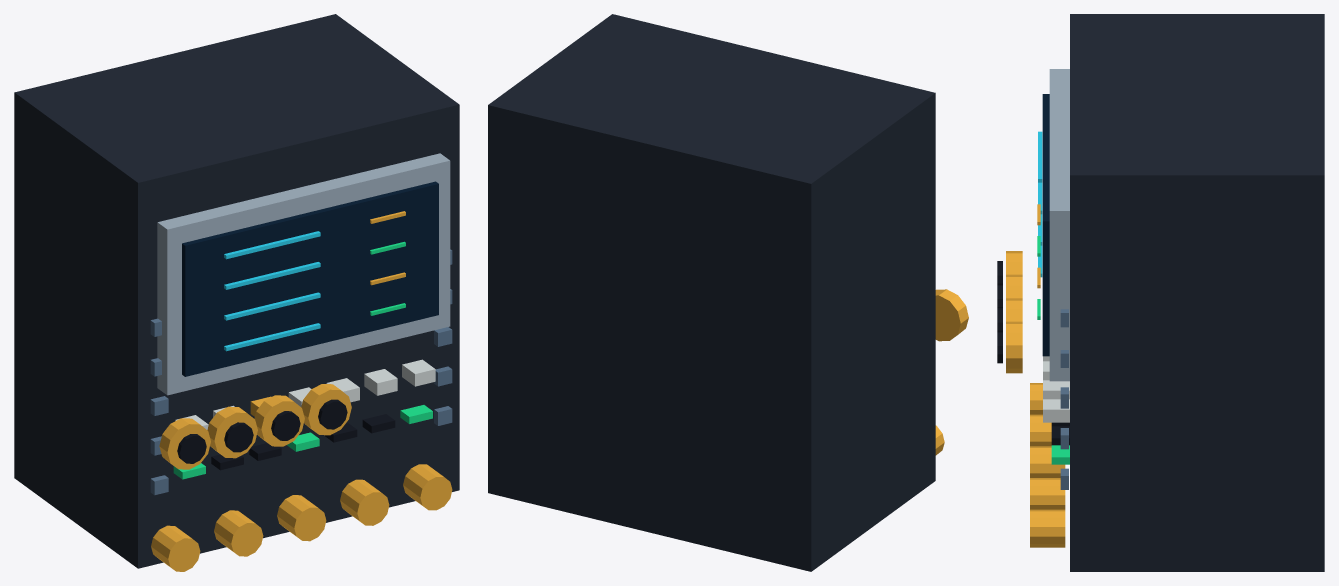
Rendered from 62_L86_RadiatorThermalPerformanceAnalyzer.fbx.
3 renders of one model, left to right at view 1: azimuth 30°, elevation 25°; view 2: azimuth 150°, elevation 25°; view 3: azimuth 270°, elevation 25°, orthographic. The views are drawn at different scales.
Parts seen in each view (by area): view 1: L86_RadiatorThermalPerformanceAnalyzer, L86_RadiatorThermalPerformanceAnalyzer_Part_0009, L86_RadiatorThermalPerformanceAnalyzer_Part_0013, L86_RadiatorThermalPerformanceAnalyzer_Part_0015, L86_RadiatorThermalPerformanceAnalyzer_Part_0011, L86_RadiatorThermalPerformanceAnalyzer_Part_0016, L86_RadiatorThermalPerformanceAnalyzer_Part_0012, L86_RadiatorThermalPerformanceAnalyzer_Part_0014, L86_RadiatorThermalPerformanceAnalyzer_Part_0010; view 2: L86_RadiatorThermalPerformanceAnalyzer, L86_RadiatorThermalPerformanceAnalyzer_Part_0009; view 3: L86_RadiatorThermalPerformanceAnalyzer, L86_RadiatorThermalPerformanceAnalyzer_Part_0015, L86_RadiatorThermalPerformanceAnalyzer_Part_0011.
Part boxes in pixels (x1,y1,x2,y2): L86_RadiatorThermalPerformanceAnalyzer: (14, 14, 459, 571); L86_RadiatorThermalPerformanceAnalyzer_Part_0009: (159, 418, 210, 469); L86_RadiatorThermalPerformanceAnalyzer_Part_0013: (254, 395, 304, 446); L86_RadiatorThermalPerformanceAnalyzer_Part_0015: (301, 384, 351, 435); L86_RadiatorThermalPerformanceAnalyzer_Part_0011: (207, 406, 257, 458); L86_RadiatorThermalPerformanceAnalyzer_Part_0016: (318, 399, 347, 429); L86_RadiatorThermalPerformanceAnalyzer_Part_0012: (224, 422, 253, 452); L86_RadiatorThermalPerformanceAnalyzer_Part_0014: (271, 411, 300, 440); L86_RadiatorThermalPerformanceAnalyzer_Part_0010: (177, 434, 206, 463); L86_RadiatorThermalPerformanceAnalyzer: (488, 14, 944, 571); L86_RadiatorThermalPerformanceAnalyzer_Part_0009: (935, 289, 968, 341); L86_RadiatorThermalPerformanceAnalyzer: (1030, 14, 1324, 571); L86_RadiatorThermalPerformanceAnalyzer_Part_0015: (1006, 321, 1022, 373); L86_RadiatorThermalPerformanceAnalyzer_Part_0011: (1006, 274, 1022, 298).
Size of the model in its own units: 96.44 by 110 by 82.16.
